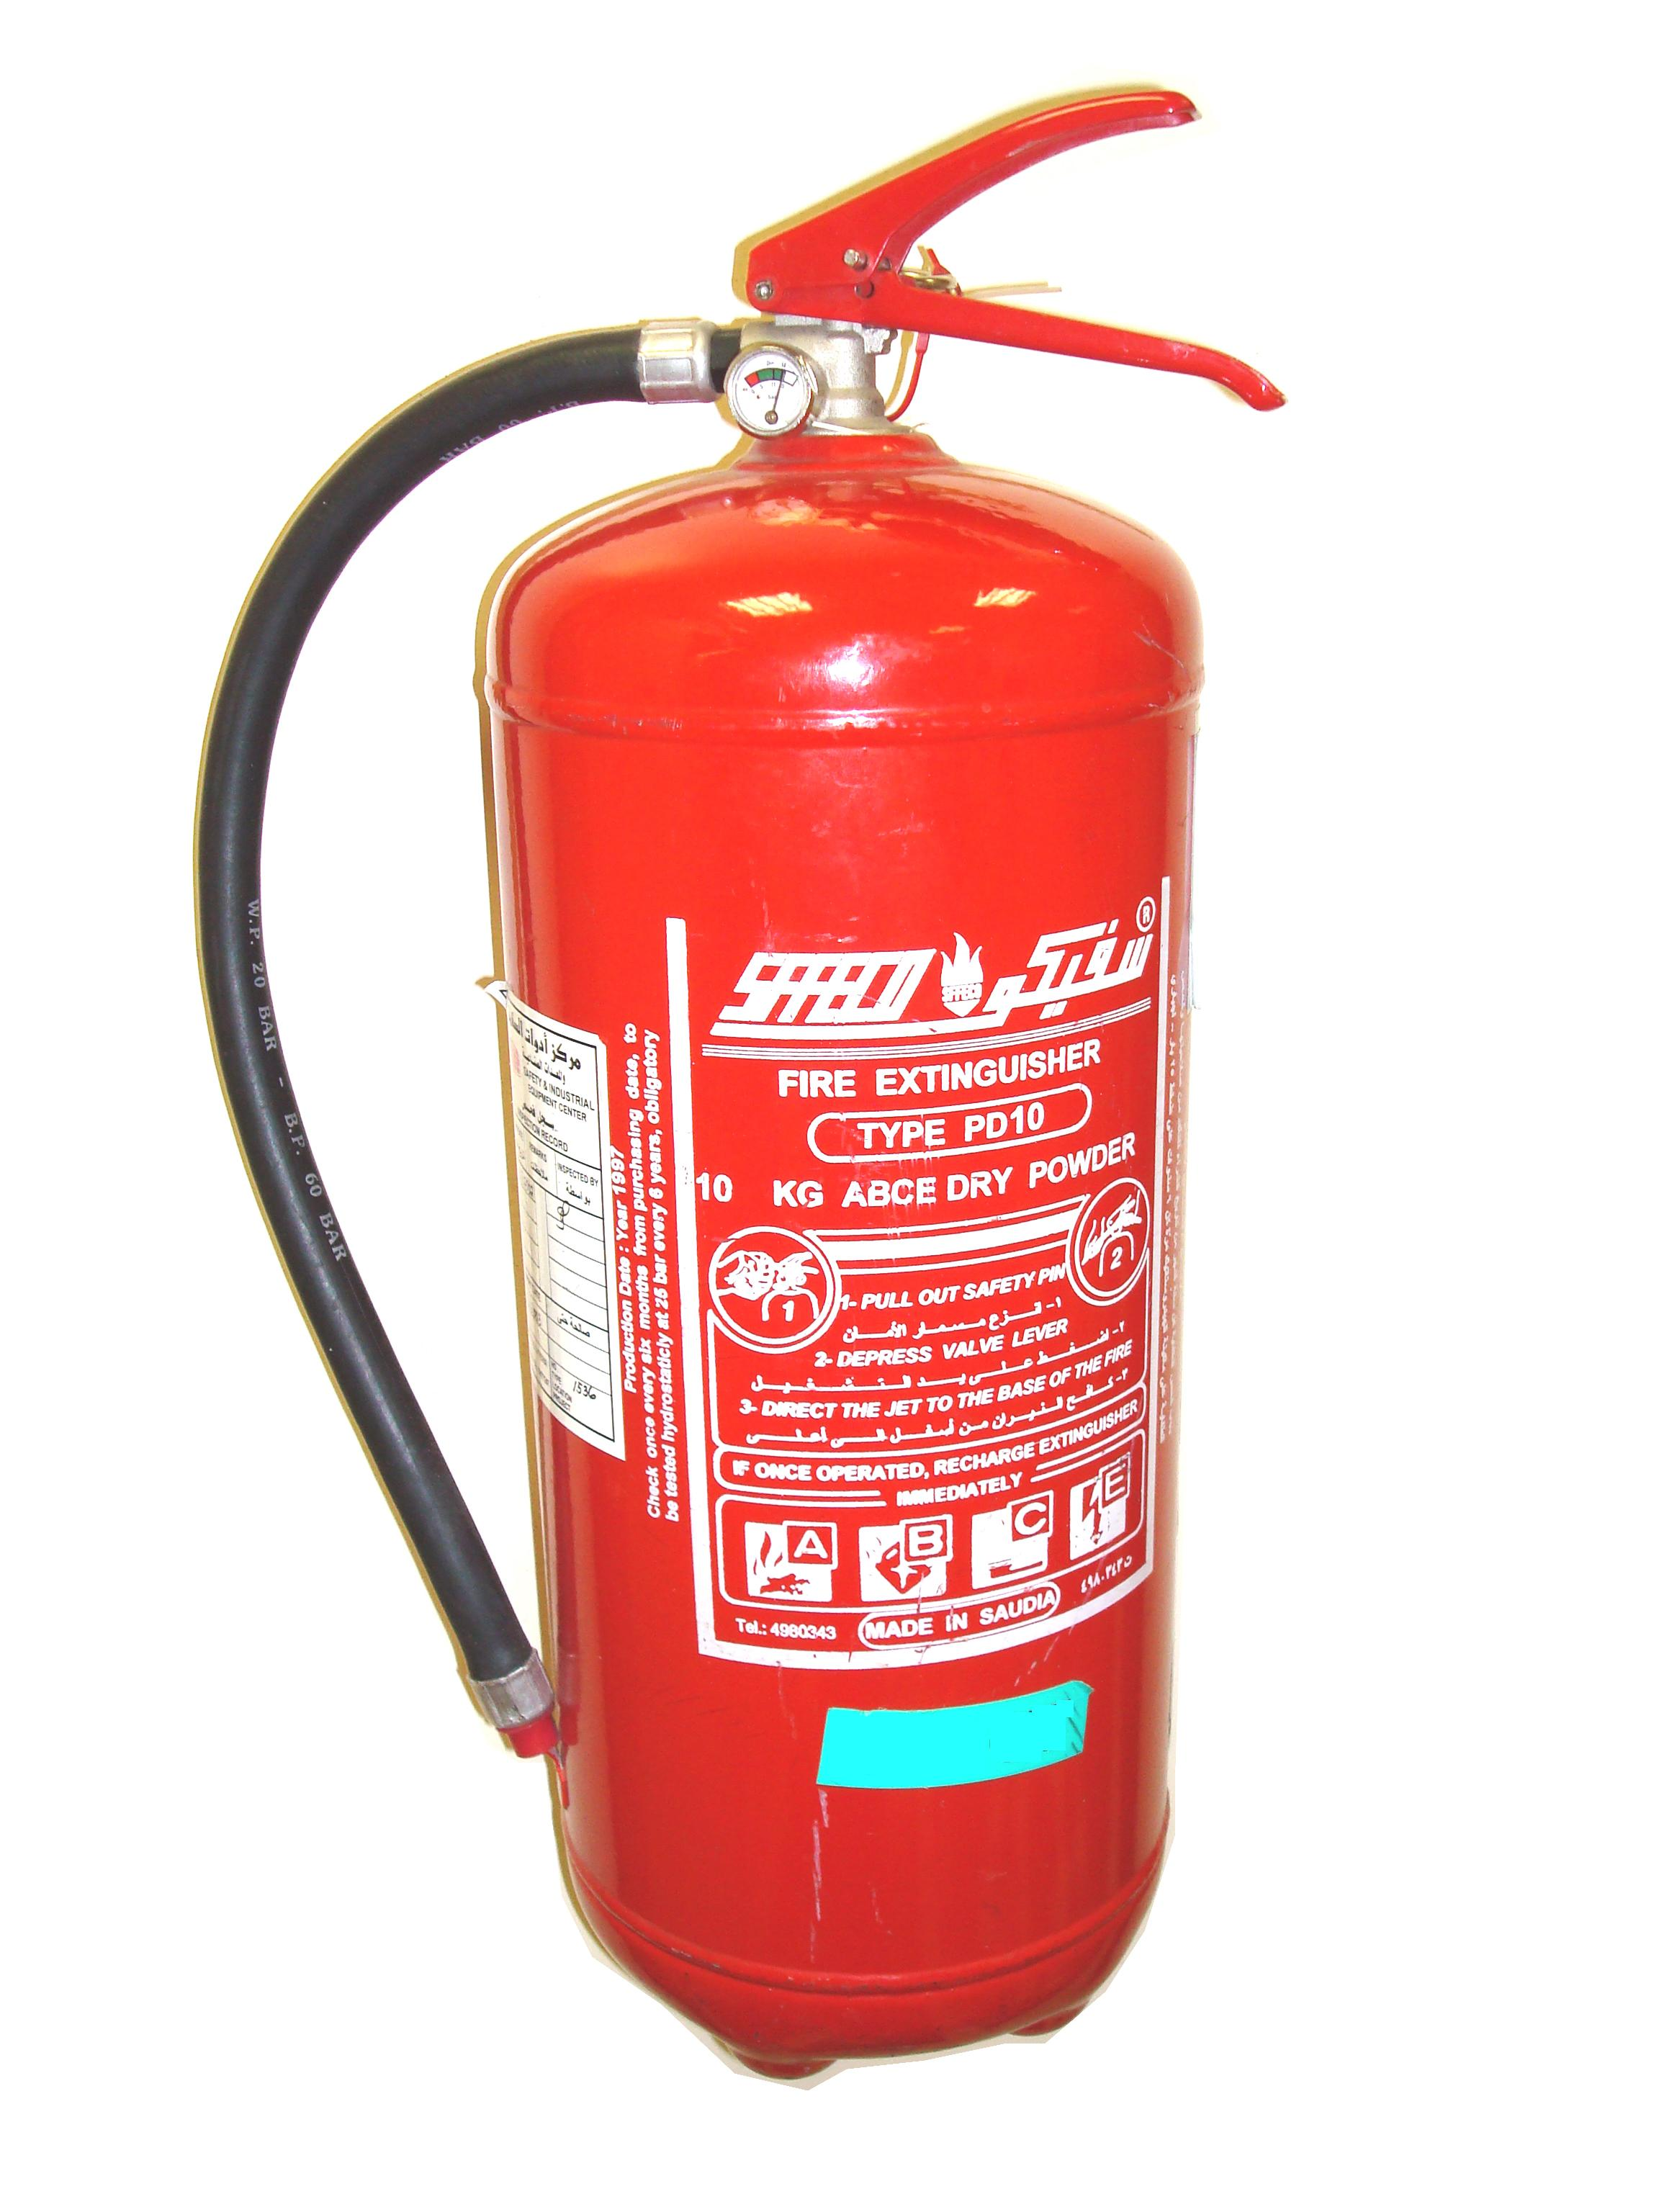Fire Extinguisher: (173, 51, 1382, 2160)
